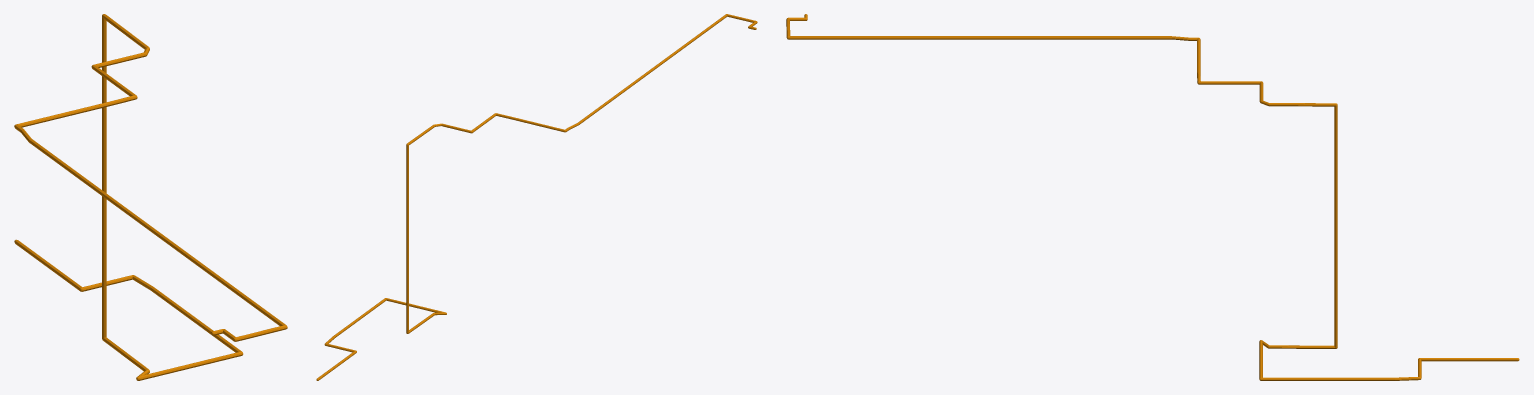
3 views of the same model, side by side, from view 1: azimuth 30°, elevation 25°; view 2: azimuth 150°, elevation 25°; view 3: azimuth 270°, elevation 25° (orthographic). The views are drawn at different scales.
Size of the model in its own units: 1629 by 1520 by 4112.
